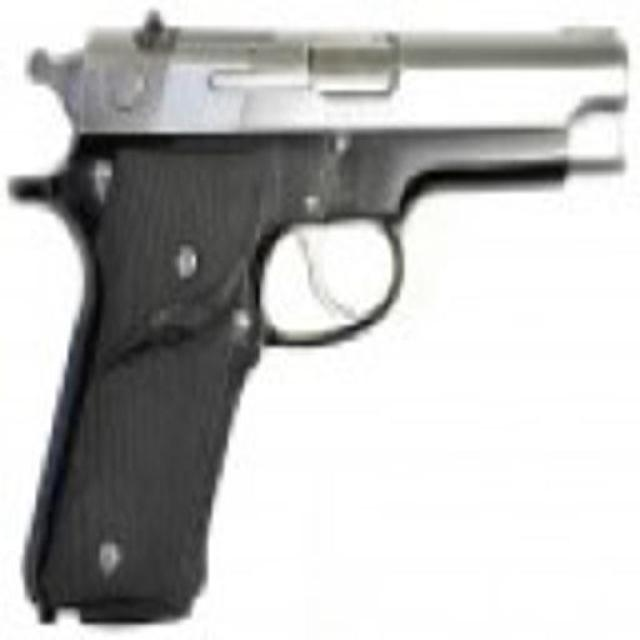pistol: (27, 15, 631, 607)
